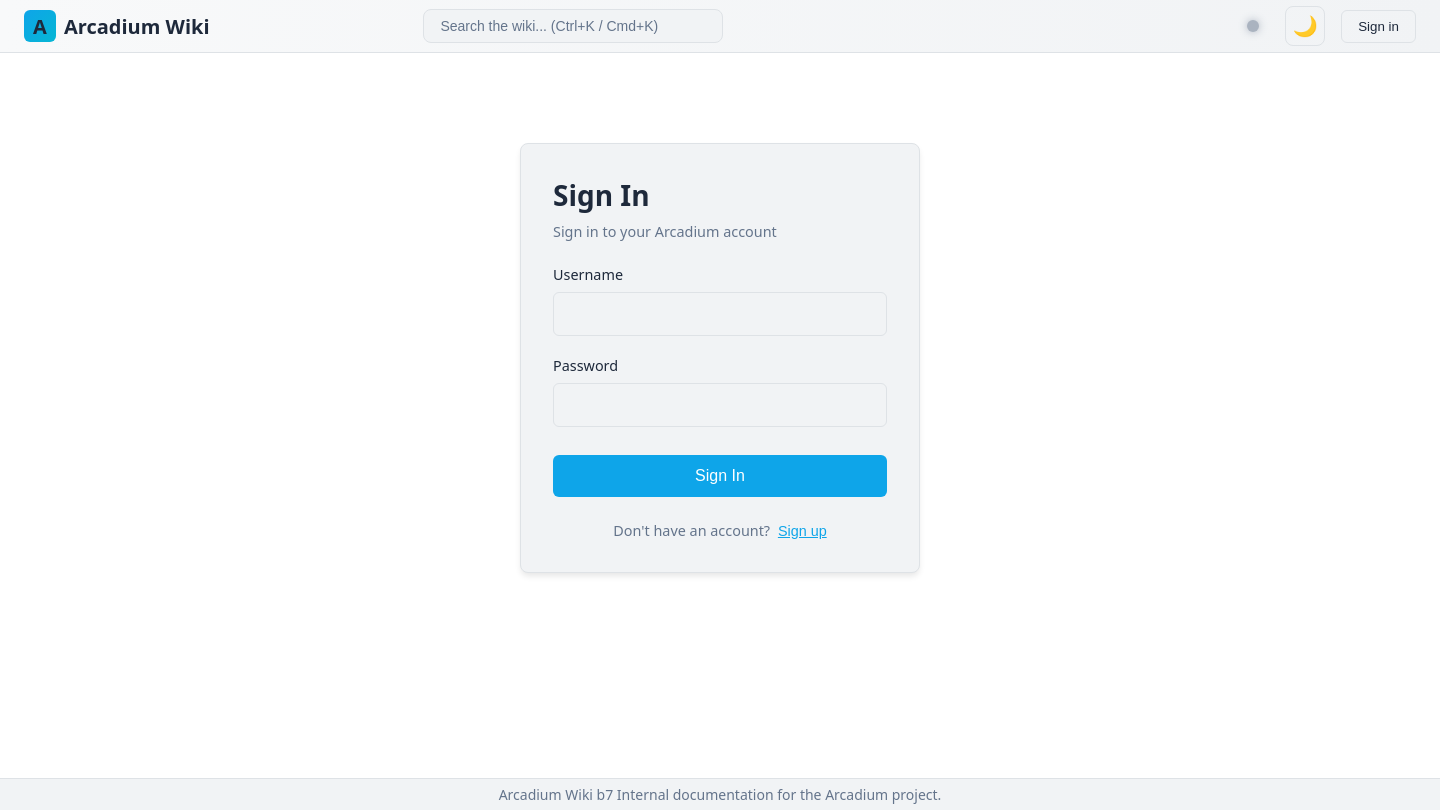
Test case: SignInPage › Register Mode › switches to register mode when clicking sign up link
Click the button "Sign up" at (802, 531), box top-left (778, 523), bottom-right (827, 539)
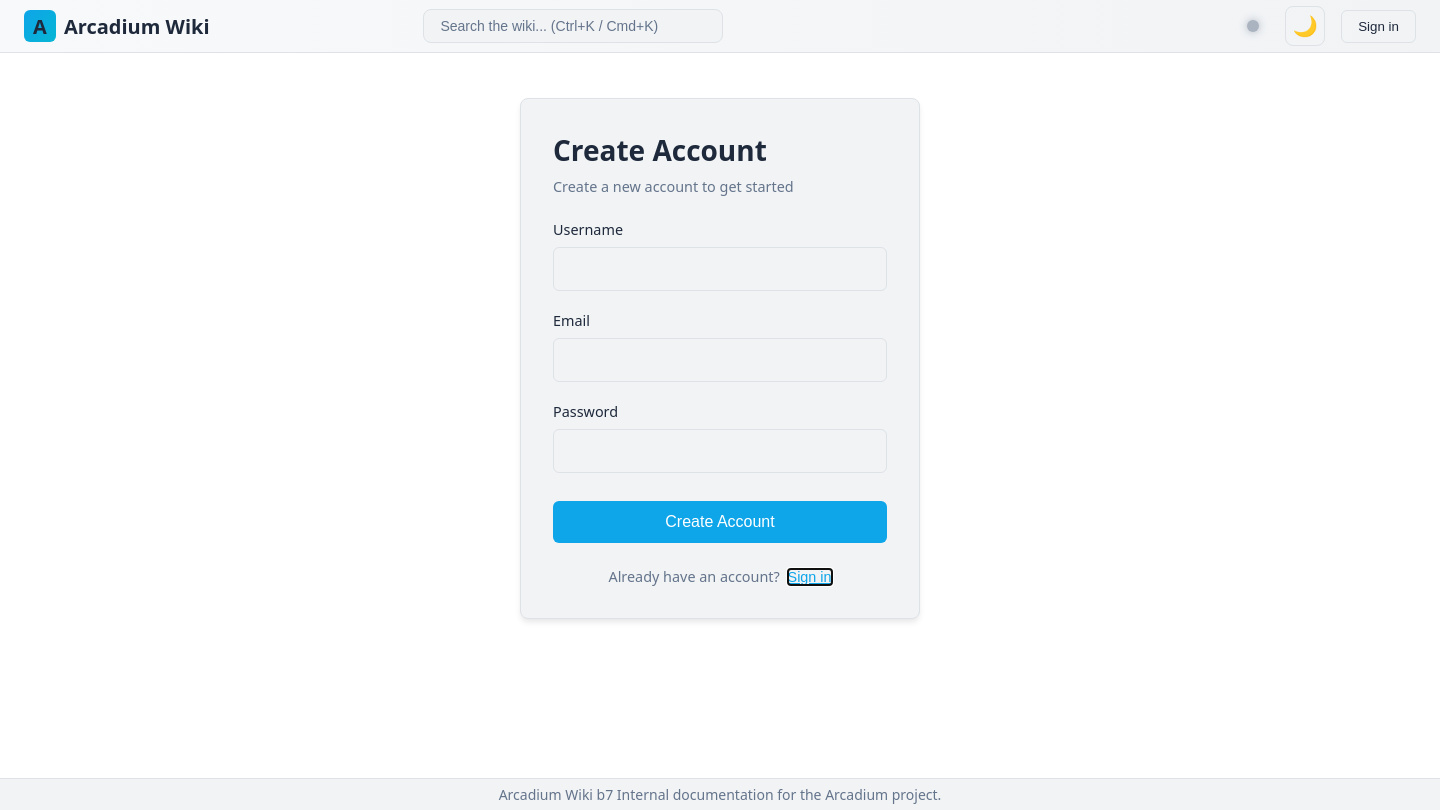
Check: the heading "Create Account" is shown, box top-left (553, 130), bottom-right (767, 168)
Check: the text "Create a new account to get started" is shown, box top-left (553, 176), bottom-right (794, 196)
